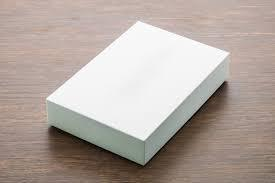box: (46, 21, 230, 166)
